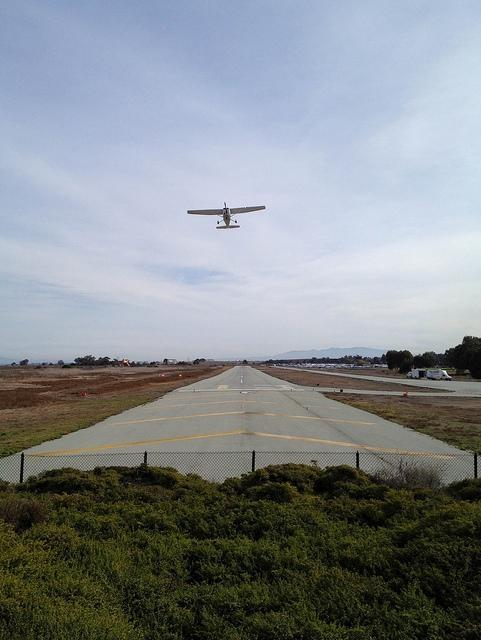truck: (427, 368, 452, 381), (406, 369, 427, 379)
